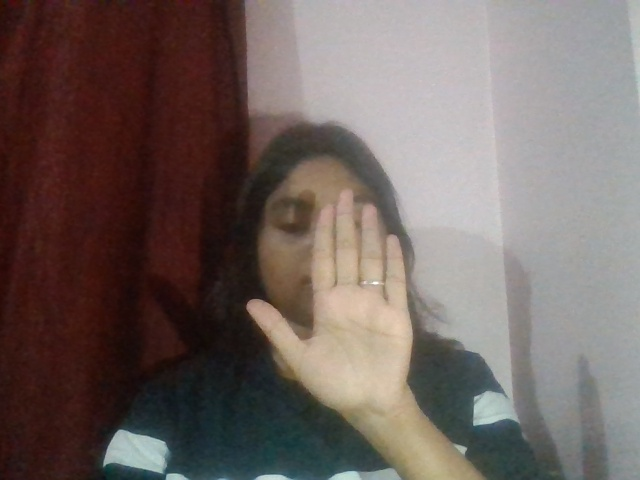Hello: (267, 184, 444, 427)
